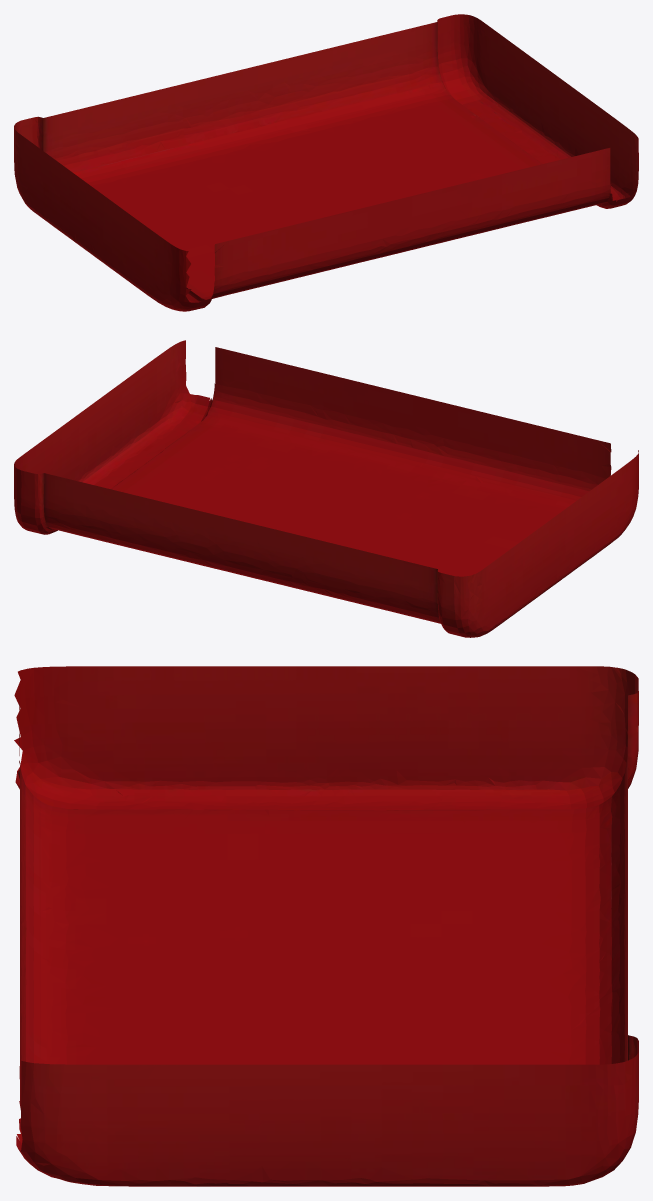
Rendered from body.glb.
The picture shows the model from 3 angles, top to bottom: view 1: azimuth 30°, elevation 25°; view 2: azimuth 150°, elevation 25°; view 3: azimuth 270°, elevation 25°; orthographic projection. The views are drawn at different scales.
Visible parts, largest first — view 1: source_surface_0; view 2: source_surface_0; view 3: source_surface_0.
Part boxes in pixels (x1,y1,x2,y2): source_surface_0: [14, 14, 638, 311]; source_surface_0: [14, 340, 638, 637]; source_surface_0: [14, 666, 638, 1186].
Size of the model in its own units: 0.38 by 0.0574 by 0.2518.
Materials: 1 (1 with a texture image).
